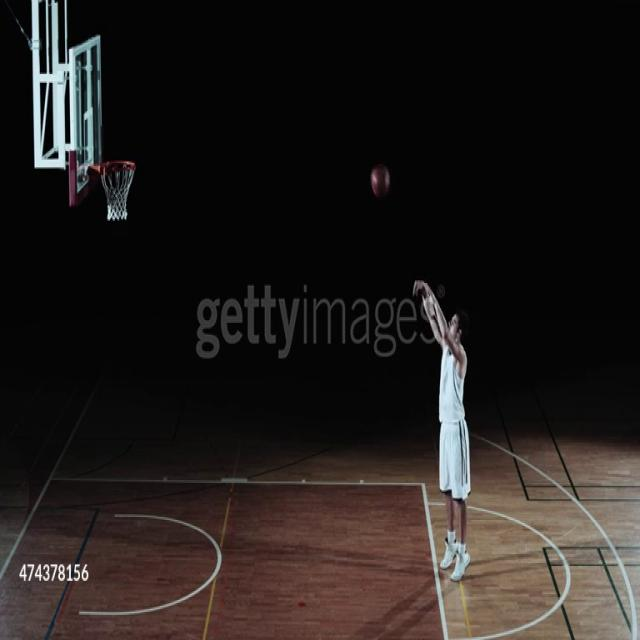ball: (369, 161, 391, 200)
